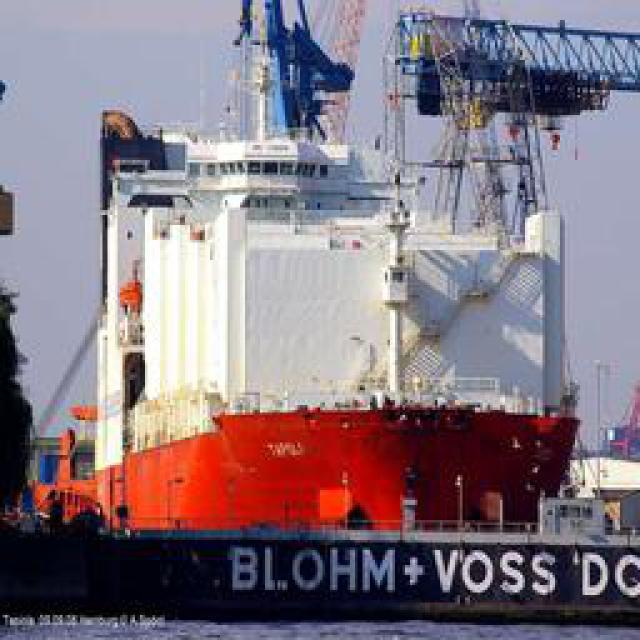Ship: (41, 1, 639, 594)
